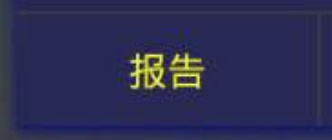Button: (1, 1, 331, 139)
